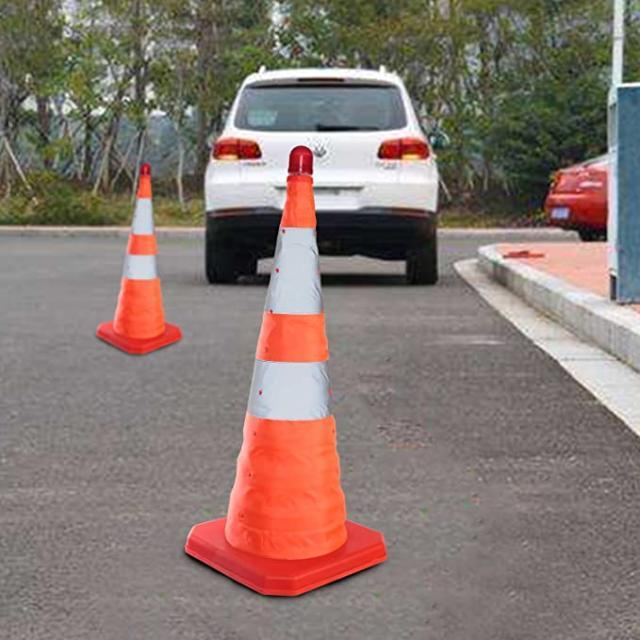car: (203, 64, 445, 287), (543, 130, 640, 243), (543, 153, 609, 242)
traffic cone: (184, 144, 388, 598), (95, 162, 182, 356)
